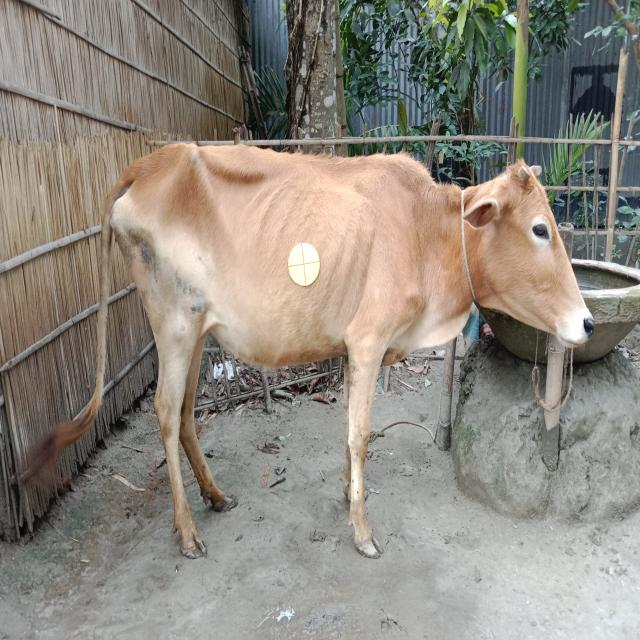badan_sapi: (117, 153, 418, 364)
sapi: (76, 126, 604, 581)
